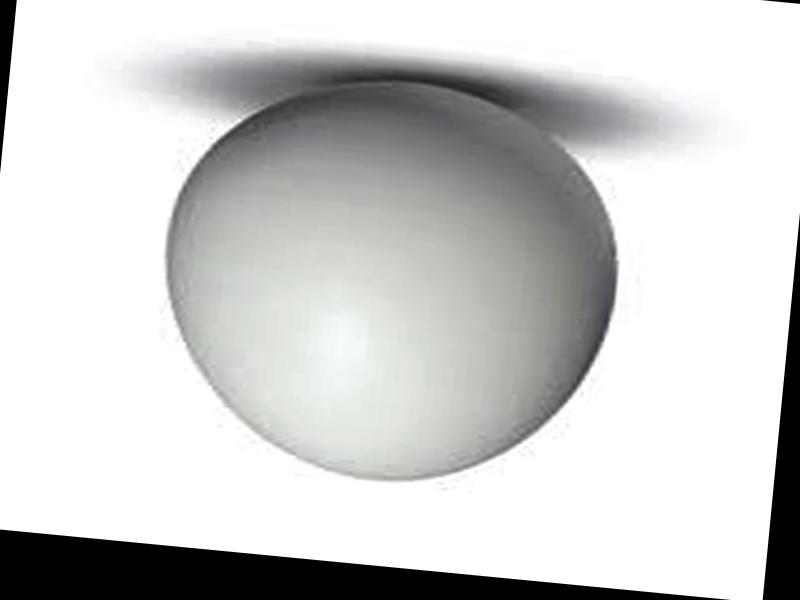Eggs: (148, 62, 625, 503)
